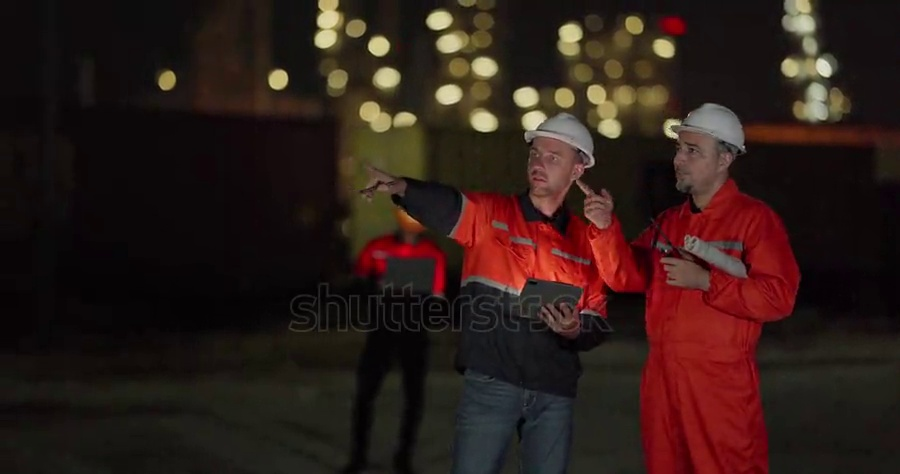helmet: (663, 103, 746, 155), (523, 112, 595, 168)
person: (354, 112, 610, 474), (573, 102, 803, 474), (342, 202, 450, 474)
